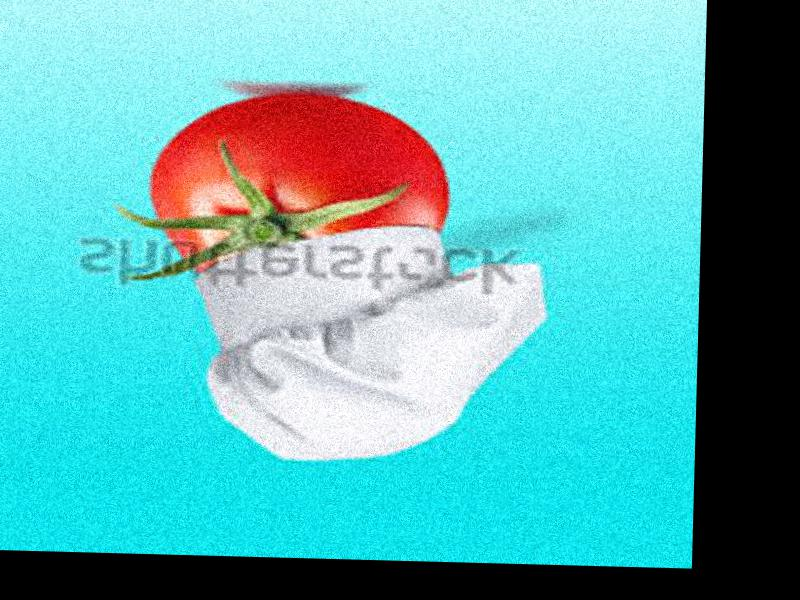Tomato: (153, 93, 451, 279)
